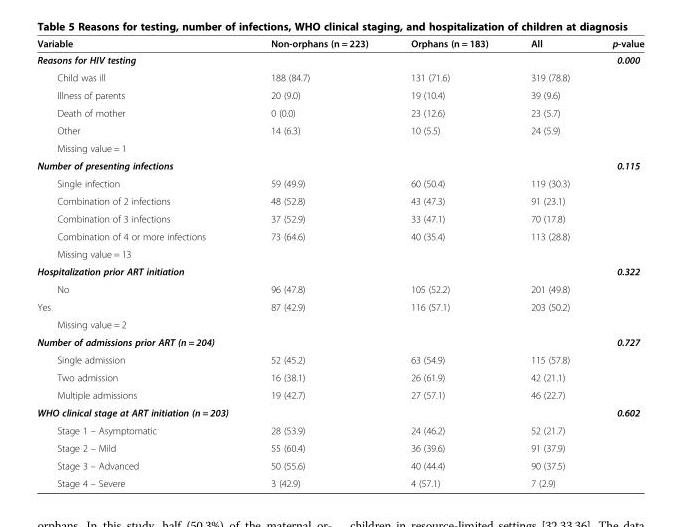table: (36, 37, 643, 488)
table column: (36, 37, 248, 488), (248, 37, 388, 488), (388, 37, 508, 488), (508, 37, 590, 488), (590, 37, 643, 488)
table column header: (36, 37, 643, 51)
table projected row header: (36, 244, 643, 262), (36, 139, 643, 156), (36, 315, 643, 332)
table row: (36, 68, 643, 86), (36, 103, 643, 121), (36, 121, 643, 139), (36, 156, 643, 174), (36, 191, 643, 209), (36, 209, 643, 227), (36, 244, 643, 262), (36, 262, 643, 280), (36, 297, 643, 315), (36, 332, 643, 350), (36, 350, 643, 368), (36, 385, 643, 403), (36, 403, 643, 421), (36, 438, 643, 456), (36, 456, 643, 474), (36, 51, 643, 68), (36, 86, 643, 103), (36, 139, 643, 156), (36, 174, 643, 191), (36, 227, 643, 244), (36, 280, 643, 297), (36, 315, 643, 332), (36, 368, 643, 385), (36, 421, 643, 438), (36, 37, 643, 51), (36, 474, 643, 488)
table spanning cell: (36, 262, 388, 280), (36, 332, 388, 350)
